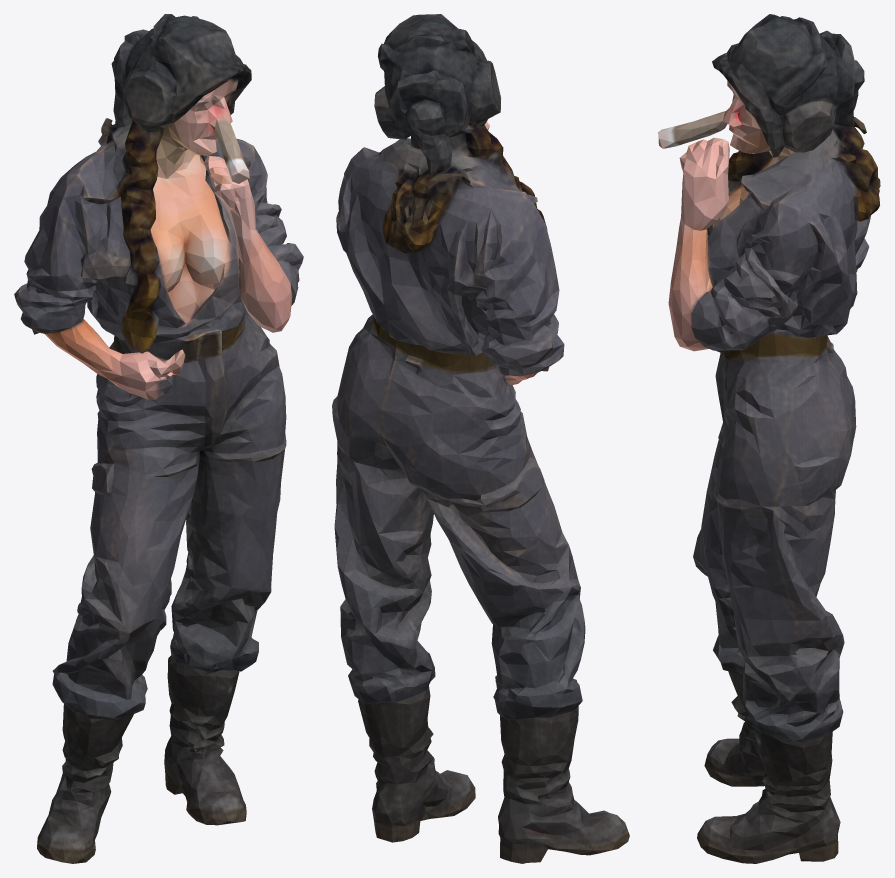
File: crew_su_loader_4_idle.obj
3 renders of one model, left to right at view 1: azimuth 30°, elevation 25°; view 2: azimuth 150°, elevation 25°; view 3: azimuth 270°, elevation 25°, orthographic. The views are drawn at different scales.
Visible parts, largest first — view 1: crew_su_loader_4_idle; view 2: crew_su_loader_4_idle; view 3: crew_su_loader_4_idle.
Part boxes in pixels (bbox=[...]): crew_su_loader_4_idle: bbox=[14, 14, 303, 863]; crew_su_loader_4_idle: bbox=[332, 14, 629, 863]; crew_su_loader_4_idle: bbox=[658, 14, 880, 863].
Size of the model in its own units: 0.5954 by 1.72 by 0.4217.
Materials: 1 (1 with a texture image).
